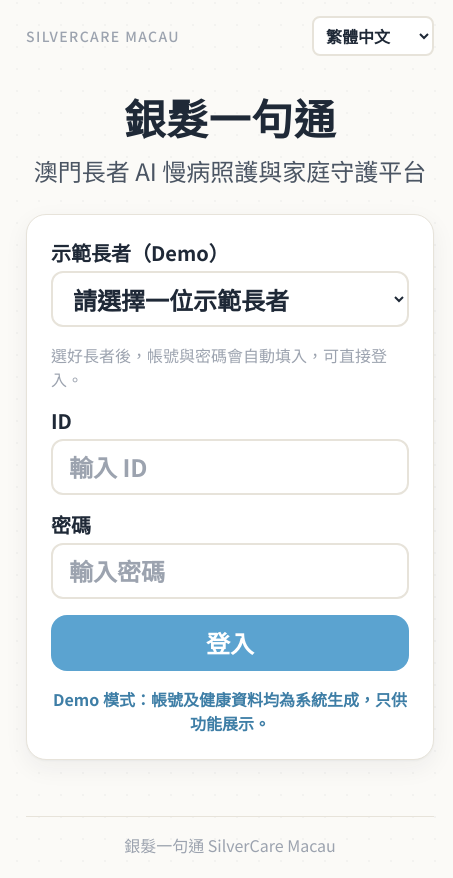
Test case: LoginPage（100 Demo 長者） › tester/tester 拒絕並顯示錯誤
Select "陳婆婆，78歲" in the dropdown with test id "demo-elder-select": (230, 299) [51, 271, 409, 327]
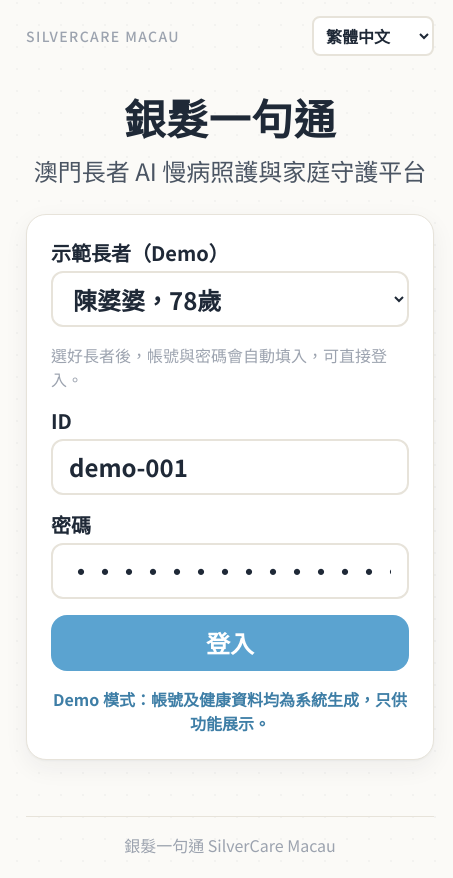
Replace the text in the field with test id "demo-login-id" with "tester": (230, 467) [51, 439, 409, 495]
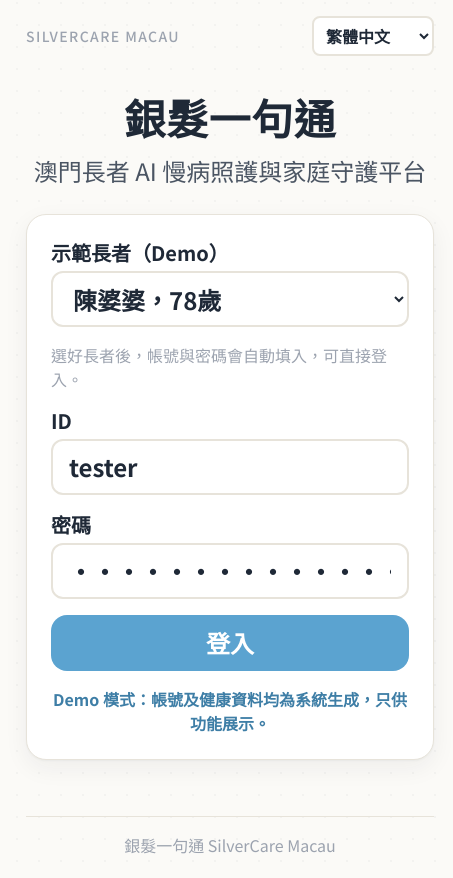
In the password field with test id "demo-login-password": (230, 571) [51, 543, 409, 599], type "tester"
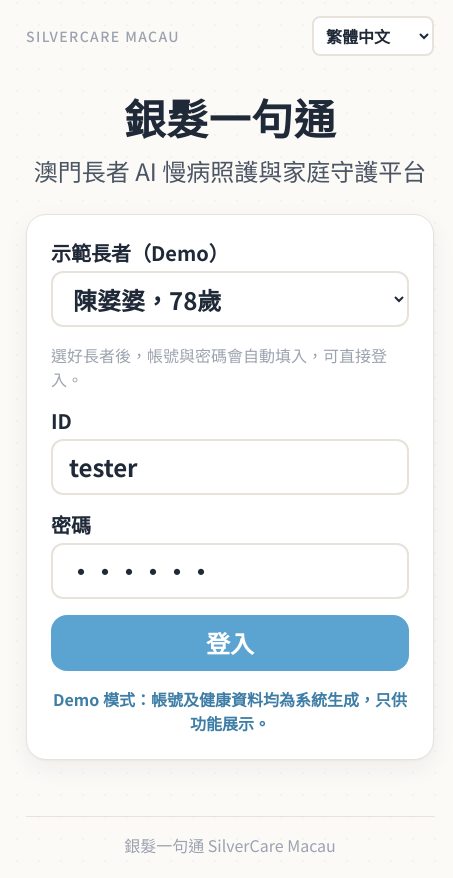
Click the button with test id "demo-login-submit": (230, 643) [51, 615, 409, 671]
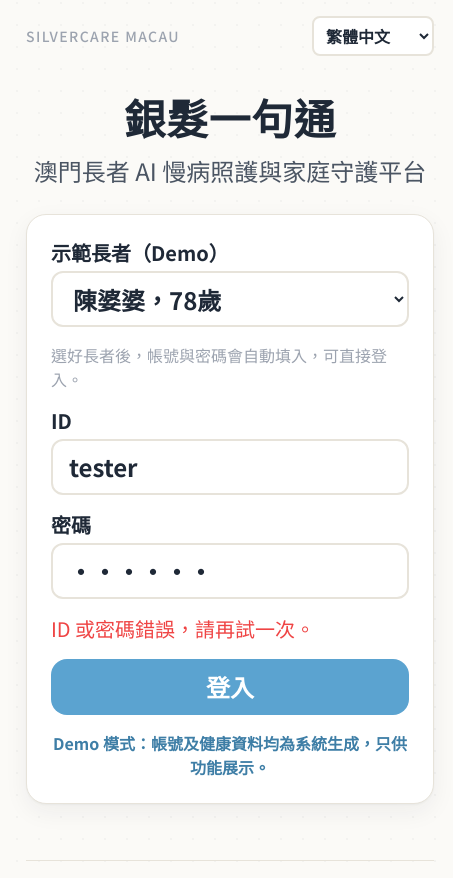
Expected: the message with test id "demo-login-error" shows "ID 或密碼錯誤", [51, 614, 315, 643]
